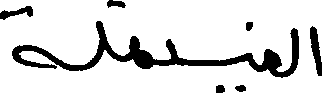ا: (309, 24, 320, 76)
ة: (0, 3, 59, 68)
غ: (245, 19, 280, 78)
ل: (94, 0, 107, 66), (288, 25, 298, 75), (164, 37, 177, 67)
م: (128, 34, 151, 70)
ي: (211, 55, 253, 91)
